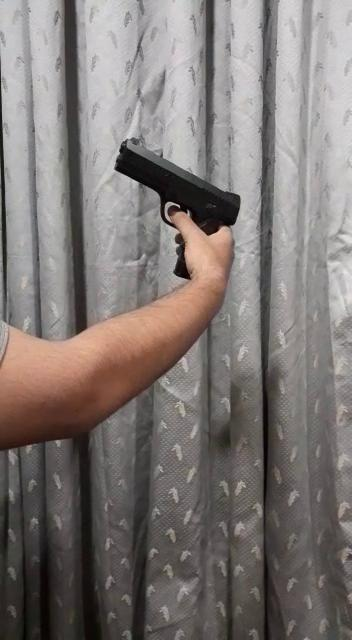weapon: (112, 133, 244, 285)
